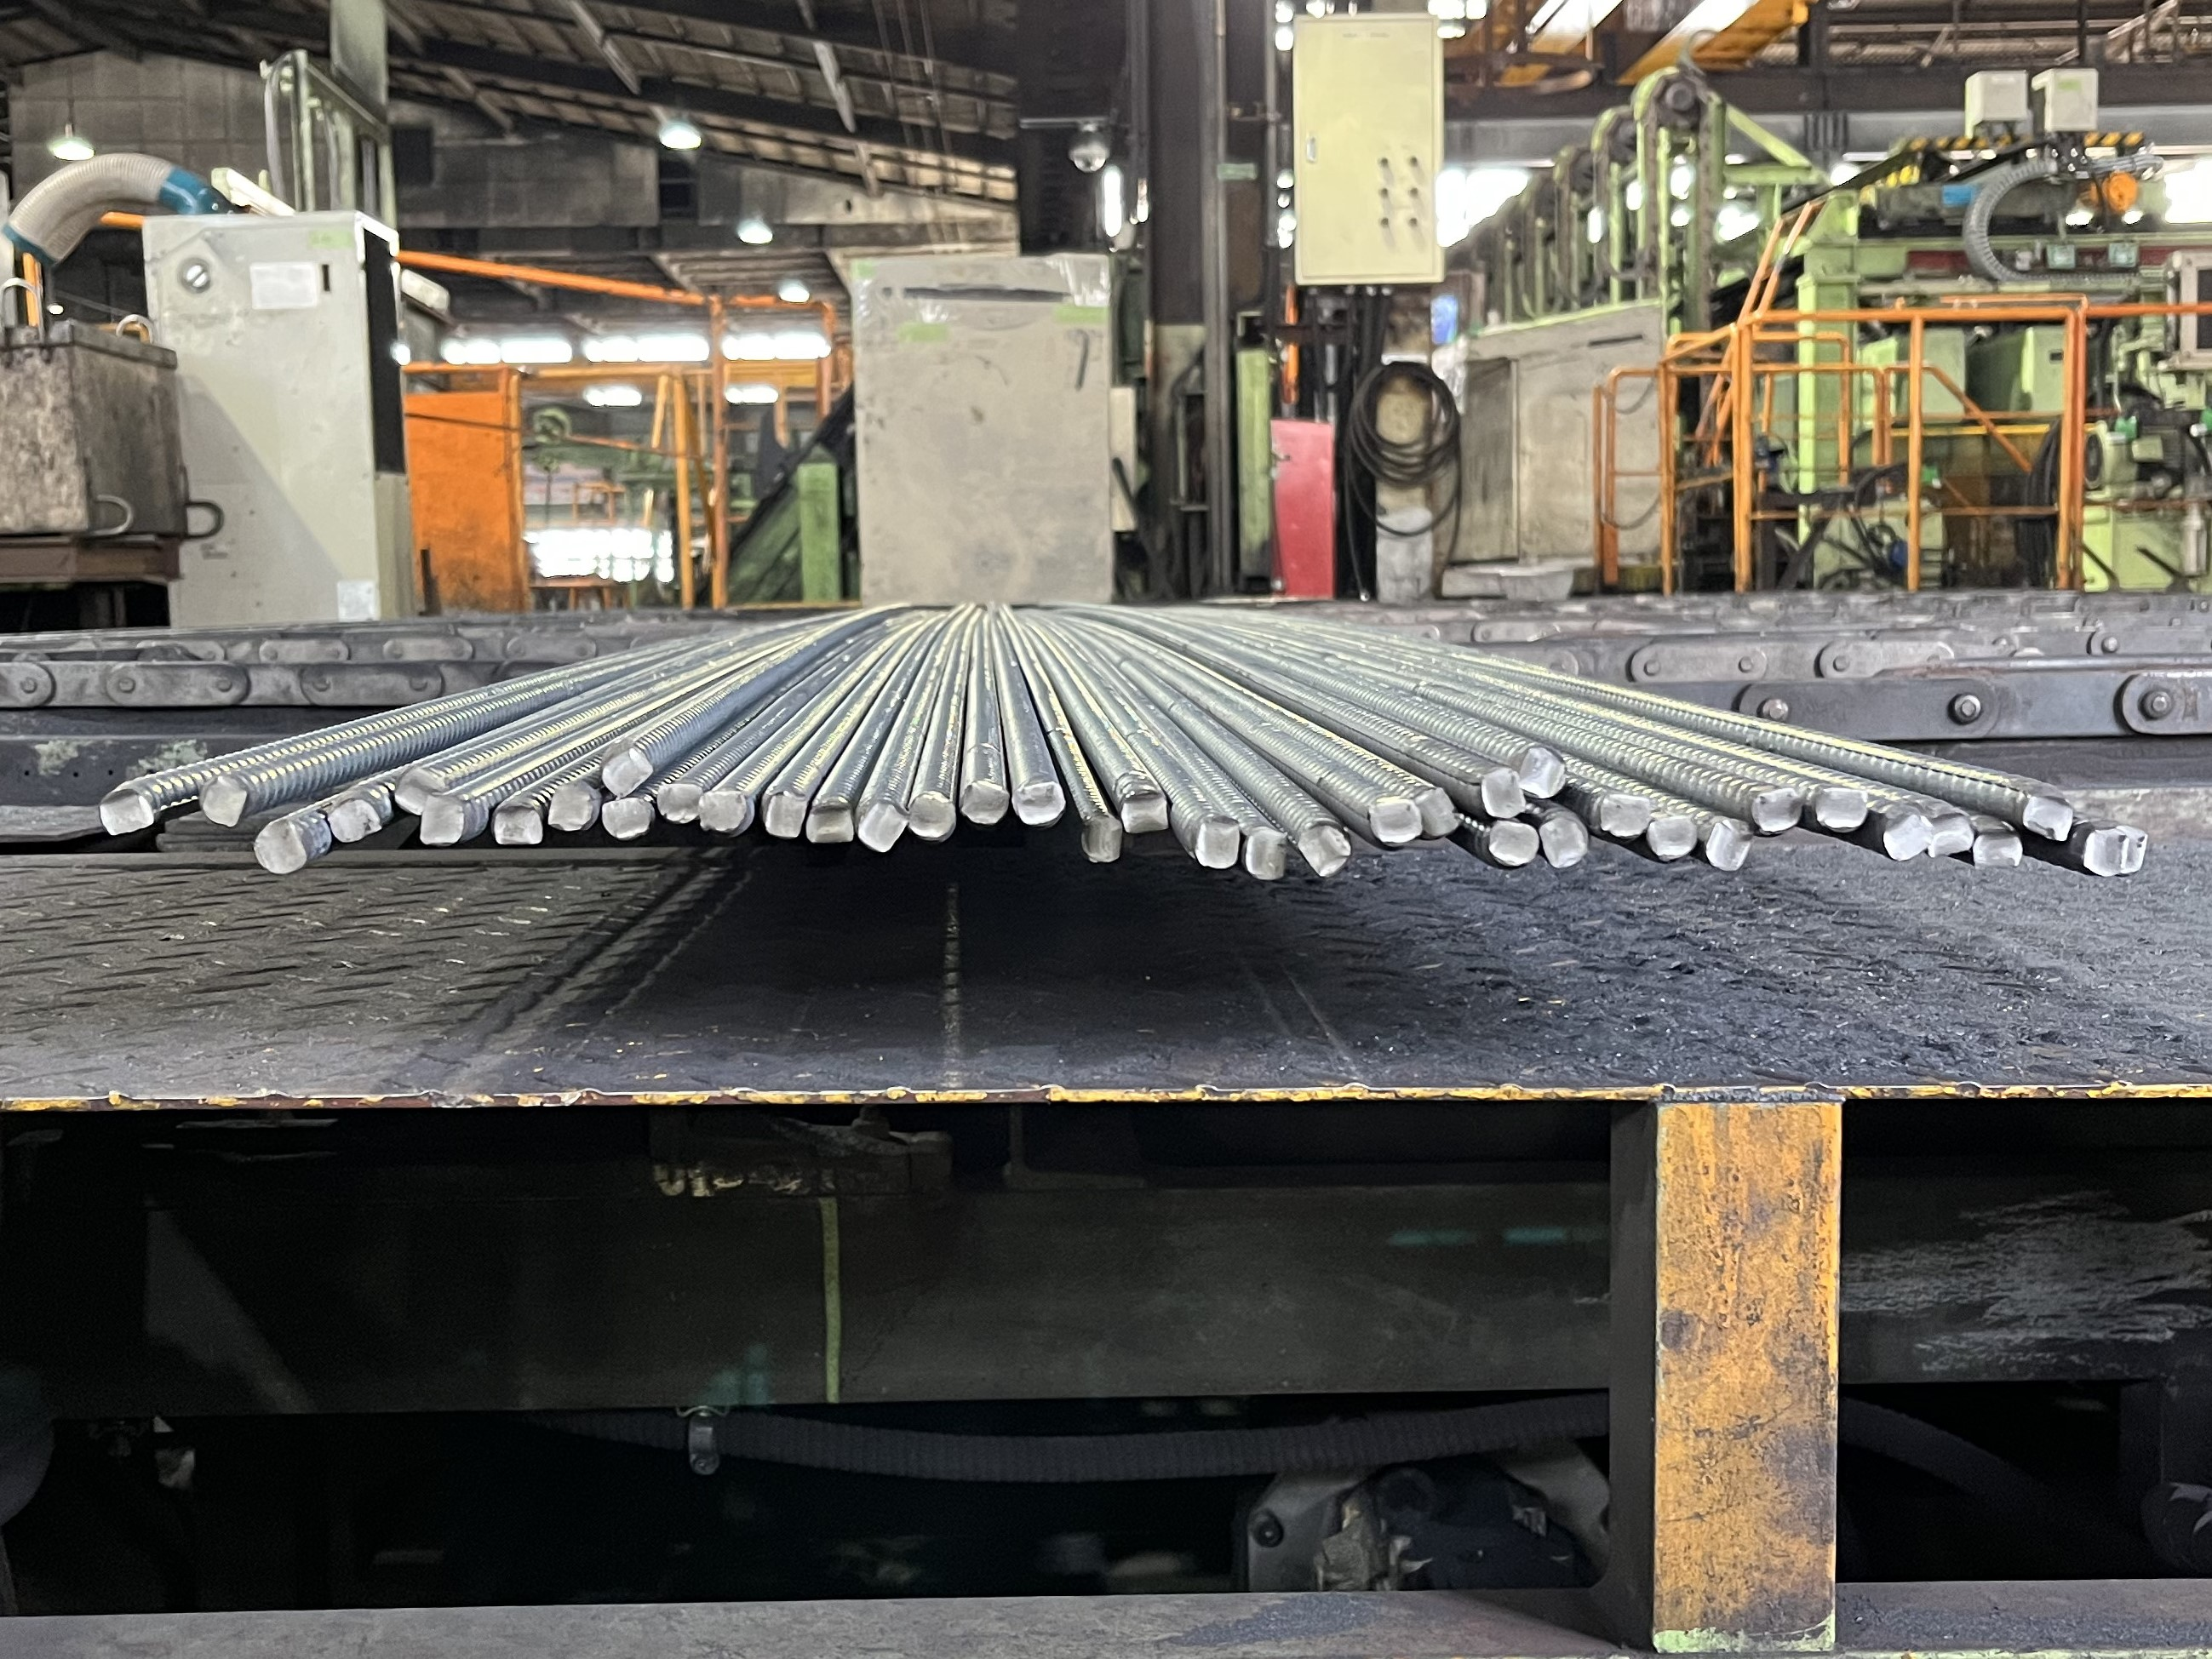rod: (1295, 821, 1354, 878), (251, 819, 309, 877), (854, 796, 908, 856), (1517, 744, 1571, 802), (96, 786, 157, 836), (598, 746, 655, 798), (1367, 796, 1424, 849), (1813, 784, 1870, 835), (1595, 791, 1654, 840), (392, 765, 446, 817), (197, 774, 248, 829), (1539, 812, 1590, 868), (2020, 793, 2076, 843), (328, 796, 385, 845), (1011, 779, 1069, 828), (1881, 810, 1933, 863), (418, 791, 467, 847), (1703, 817, 1752, 873), (1194, 814, 1241, 871), (906, 789, 957, 842), (1647, 812, 1698, 864), (547, 779, 596, 833), (1485, 819, 1539, 868), (955, 779, 1011, 826), (1415, 786, 1462, 840), (1480, 765, 1527, 819), (1750, 786, 1804, 833), (598, 796, 654, 842), (695, 789, 751, 835), (1245, 826, 1290, 882), (760, 789, 809, 840), (1926, 809, 1975, 859), (1119, 788, 1171, 835), (1970, 828, 2025, 871), (490, 803, 547, 845), (2080, 828, 2128, 877), (1079, 814, 1124, 864), (655, 781, 704, 826), (804, 803, 854, 845)
